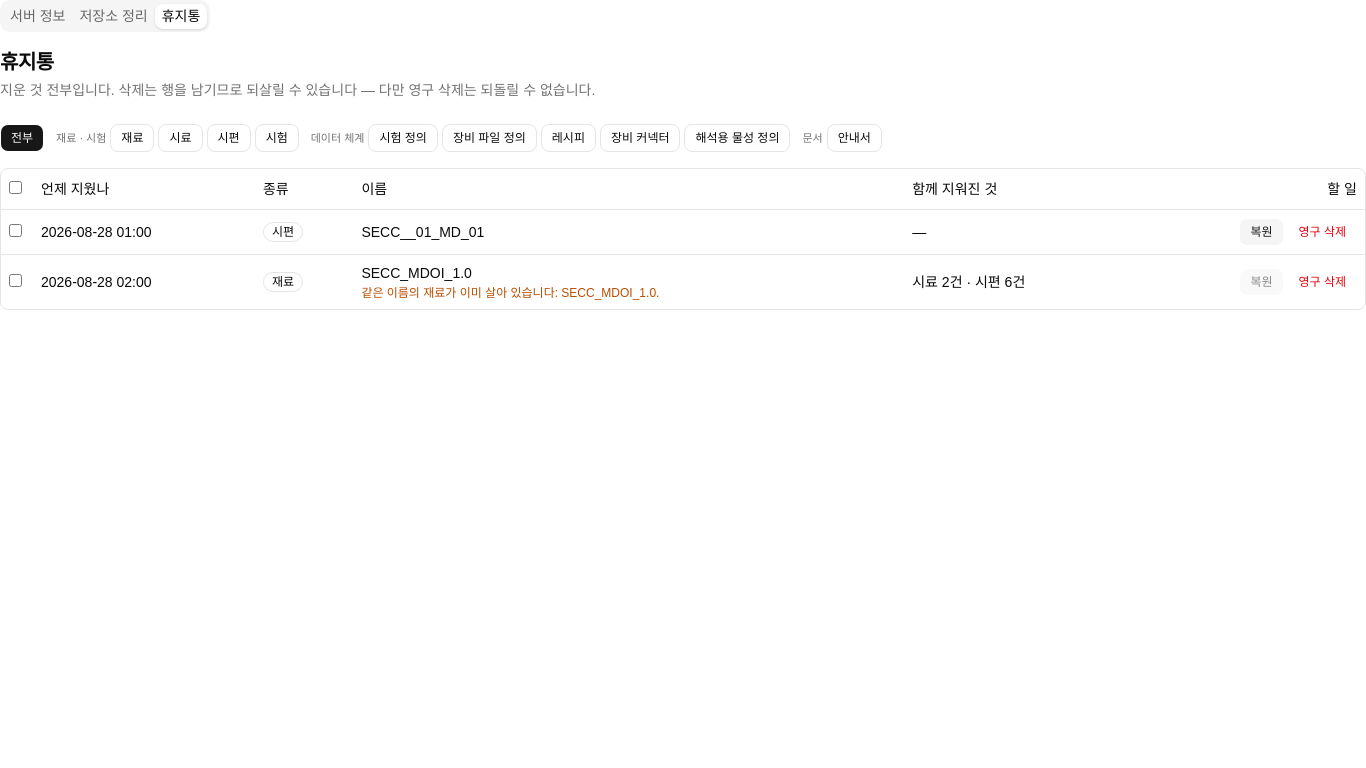
Scenario: 영구 삭제 › 무엇이 사라지는지 이름과 수로 적는다
Expected: the text "SECC_MDOI_1.0" is shown, [361,264,472,280]
Click the button "영구 삭제" in the row of "2026-08-28 02:00": (1322, 282) [1288,268,1357,296]
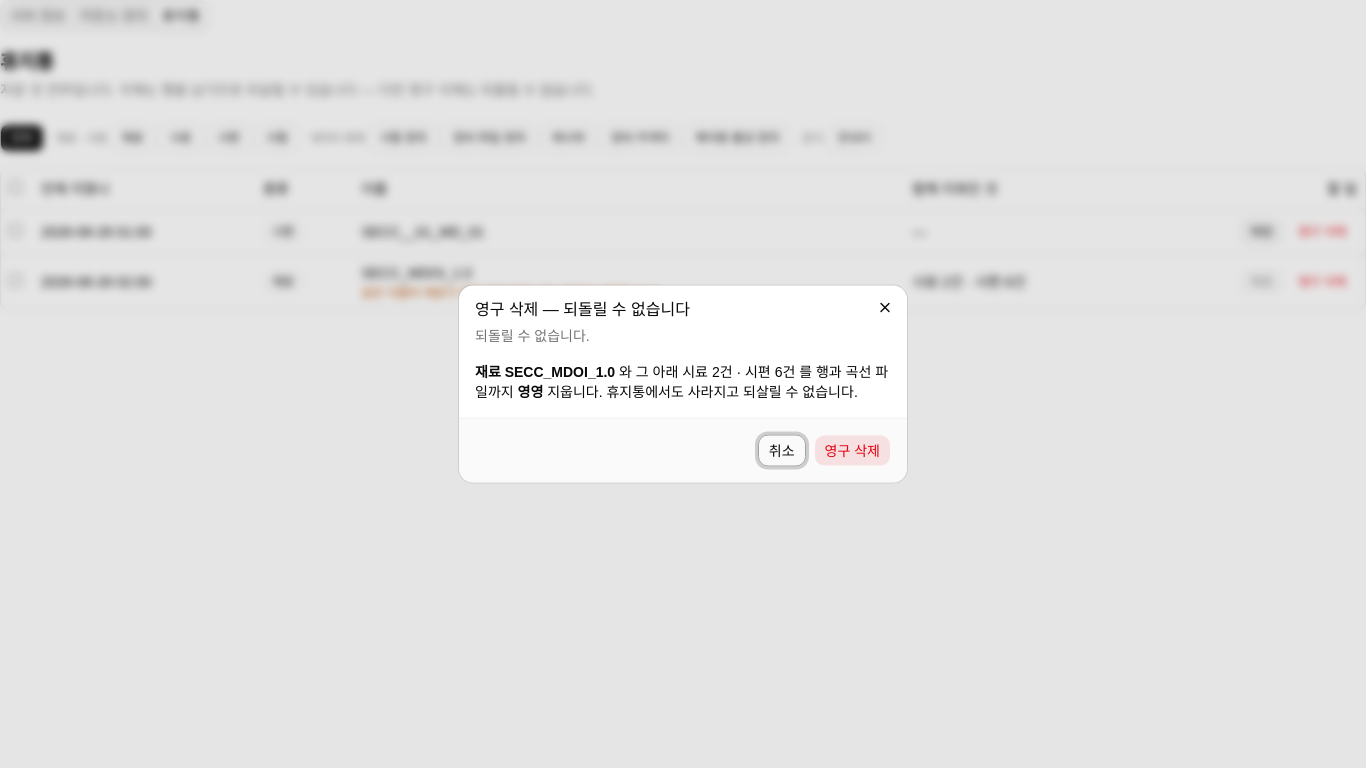
Expected: the dialog shows "SECC_MDOI_1.0", [505,364,615,380]
Expected: the dialog shows "시료 2건 · 시편 6건", [682,364,795,380]
